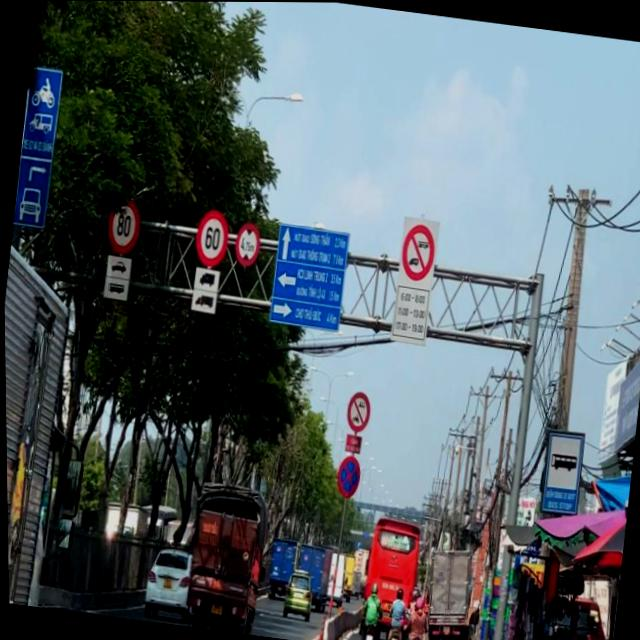Ben xe buyt: (537, 429, 584, 516)
Cam dung xe va do xe: (333, 454, 361, 498)
Han che chieu cao: (232, 220, 262, 268)
Toc do toi da cho phep: (192, 207, 231, 268), (104, 196, 142, 255)
